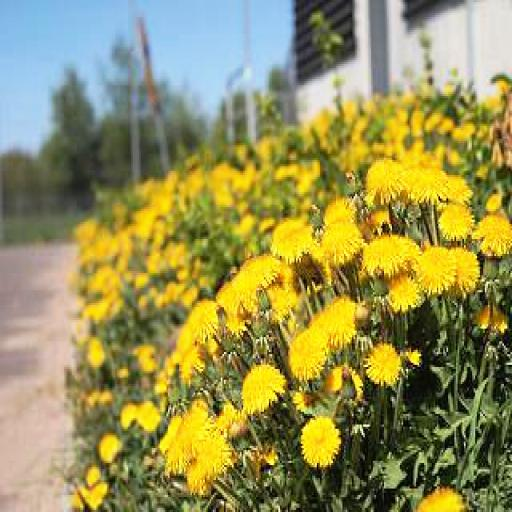dandelion: (362, 232, 424, 280), (314, 290, 362, 348), (182, 436, 236, 486), (238, 363, 288, 414), (232, 256, 280, 305), (365, 156, 408, 205), (288, 324, 326, 378), (269, 216, 315, 260), (302, 416, 340, 467), (421, 239, 456, 294), (366, 343, 402, 384)
